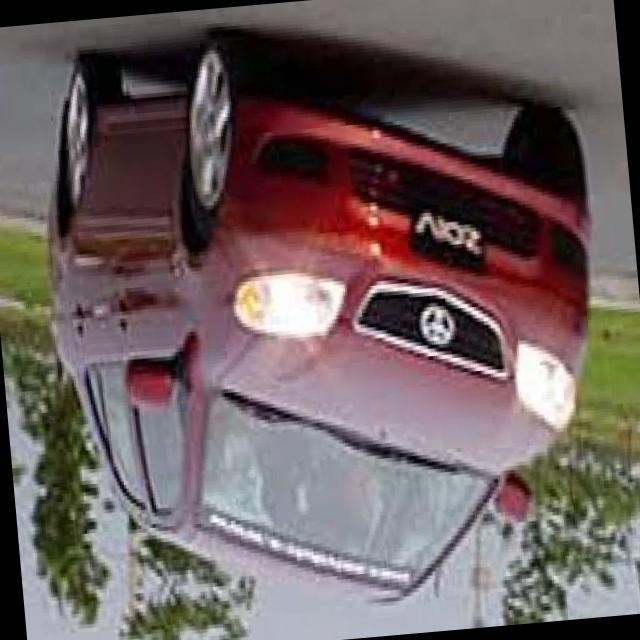ToyotaVios: (25, 2, 624, 634)
